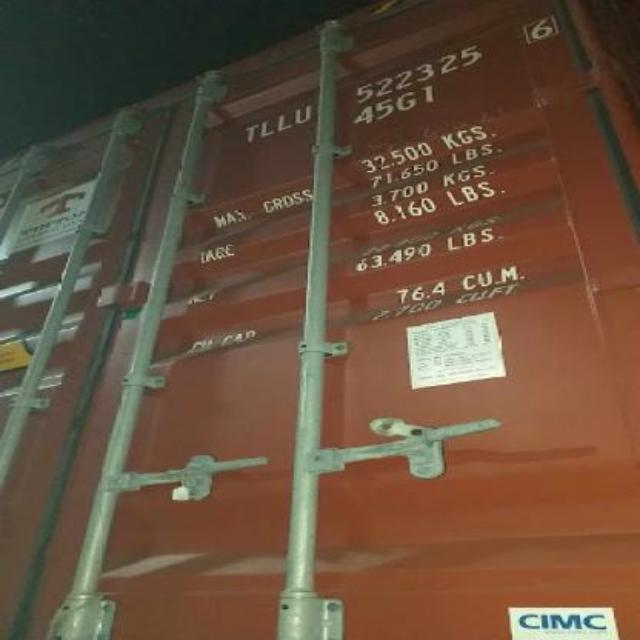2: (388, 65, 412, 91), (372, 74, 394, 96), (440, 54, 460, 76)
3: (412, 60, 438, 86)
5: (456, 40, 484, 76), (342, 77, 374, 103)
6: (520, 15, 564, 41)
L: (270, 109, 294, 138), (254, 115, 274, 142)
T: (240, 116, 260, 146)
U: (282, 104, 318, 130)
